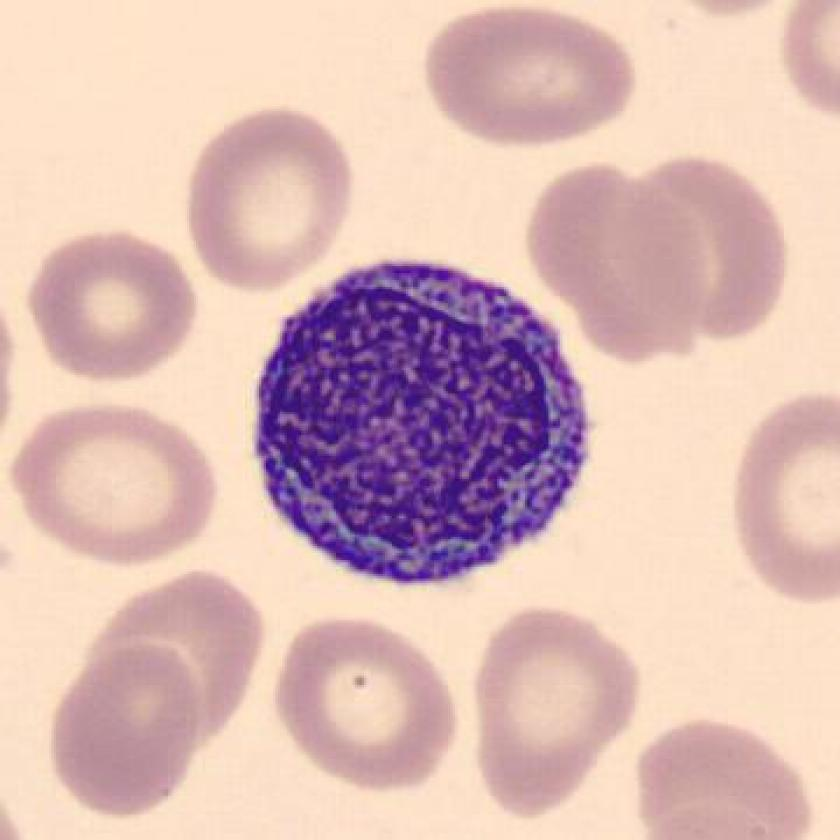monocyte: (232, 239, 608, 603)
